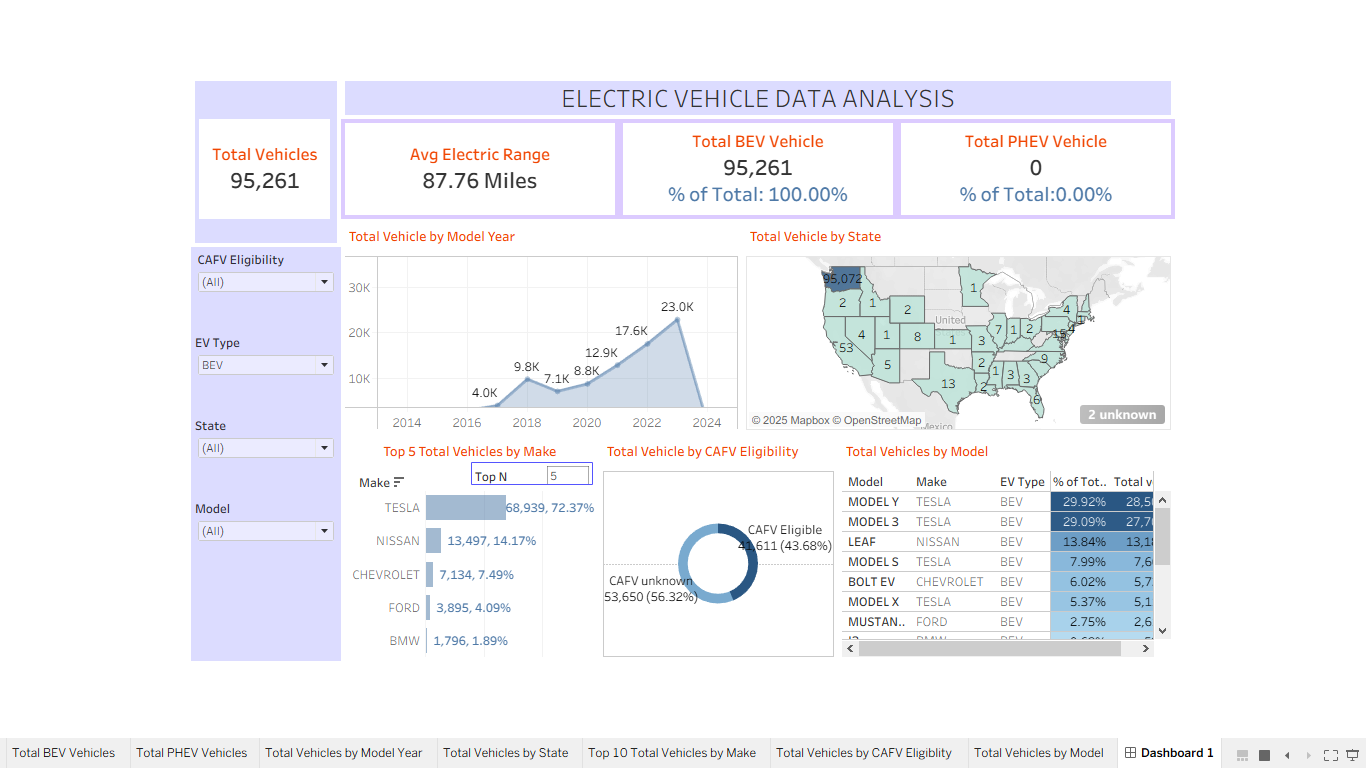

This screenshot's page, from the dashboard's own definition file:
{"tool":"tableau","page":{"name":"Dashboard 1","canvas":[1000,600],"ordinal":0},"visuals":[{"type":"blank","box":[8,8,150,170]},{"type":"title","box":[158,8,834,42]},{"type":"worksheet","title":"Total vehicles","mark":"Automatic","box":[16,50,131,100]},{"type":"worksheet","title":"Avg Electric Range","mark":"Automatic","box":[158,50,278,100]},{"type":"worksheet","title":"Total BEV Vehicles ","mark":"Automatic","box":[436,50,278,100]},{"type":"worksheet","title":"Total PHEV Vehicles","mark":"Automatic","box":[714,50,278,100]},{"type":"worksheet","title":"Total Vehicles by Model Year","mark":"Area","rows":["Calculation_0176762912473088","Calculation_0176762912473088"],"cols":["Model Year"],"box":[158,150,401,215]},{"type":"worksheet","title":"Total Vehicles by State","mark":"Multipolygon","box":[559,150,433,215]},{"type":"filter","title":"Total Vehicles by Model Year","param":"[federated.0oigpqj1t7se8y17l5w80157g0qz].[Action (Clean Alternative Fuel Vehicle","box":[8,178,150,83]},{"type":"filter","title":"Total Vehicles by Model Year","param":"[federated.0oigpqj1t7se8y17l5w80157g0qz].[none:Electric Vehicle Type:nk]","box":[8,261,150,83]},{"type":"filter","title":"Total Vehicles by Model Year","param":"[federated.0oigpqj1t7se8y17l5w80157g0qz].[none:State:nk]","box":[8,344,150,83]},{"type":"worksheet","title":"Top 10 Total Vehicles by Make","mark":"Bar","rows":["Make"],"cols":["Calculation_0176762912473088"],"box":[158,365,258,227]},{"type":"worksheet","title":"Total Vehicles by CAFV Eligiblity","mark":"Pie","rows":["Calculation_0176762946252810","Calculation_0176762946252810"],"box":[416,365,239,227]},{"type":"worksheet","title":"Total Vehicles by Model","mark":"Square","rows":["Model","Make","Electric Vehicle Type"],"box":[655,365,337,227]},{"type":"parameter","param":"[Parameters].[Parameter 1]","box":[288,393,122,23]},{"type":"filter","title":"Top 10 Total Vehicles by Make","param":"[federated.0oigpqj1t7se8y17l5w80157g0qz].[none:Model:nk]","box":[8,427,150,83]},{"type":"blank","box":[8,510,150,82]}]}

Visuals, with their boxes on the page's 1000x600 design canvas (x1, y1, x2, y2). These are canvas units, not pixel positions in the 1366x768 screenshot, which may show the page scaled, cropped or inside an application window:
blank: Rect(8, 8, 158, 178)
title: Rect(158, 8, 992, 50)
"Total vehicles" worksheet: Rect(16, 50, 147, 150)
"Avg Electric Range" worksheet: Rect(158, 50, 436, 150)
"Total BEV Vehicles " worksheet: Rect(436, 50, 714, 150)
"Total PHEV Vehicles" worksheet: Rect(714, 50, 992, 150)
"Total Vehicles by Model Year" worksheet (Area marks): Rect(158, 150, 559, 365)
"Total Vehicles by State" worksheet (Multipolygon marks): Rect(559, 150, 992, 365)
"Total Vehicles by Model Year" filter: Rect(8, 178, 158, 261)
"Total Vehicles by Model Year" filter: Rect(8, 261, 158, 344)
"Total Vehicles by Model Year" filter: Rect(8, 344, 158, 427)
"Top 10 Total Vehicles by Make" worksheet (Bar marks): Rect(158, 365, 416, 592)
"Total Vehicles by CAFV Eligiblity" worksheet (Pie marks): Rect(416, 365, 655, 592)
"Total Vehicles by Model" worksheet (Square marks): Rect(655, 365, 992, 592)
parameter: Rect(288, 393, 410, 416)
"Top 10 Total Vehicles by Make" filter: Rect(8, 427, 158, 510)
blank: Rect(8, 510, 158, 592)
